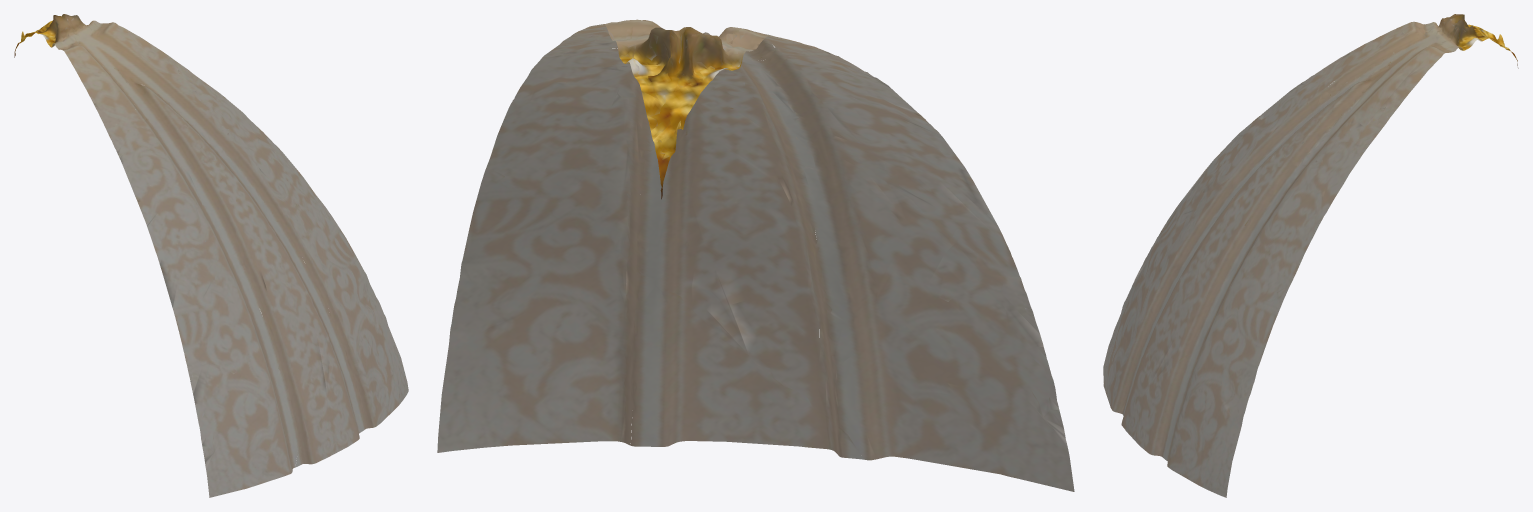
The model's file is dome2_topdome.gltf.
The picture shows the model from 3 angles, left to right: view 1: azimuth 30°, elevation 25°; view 2: azimuth 150°, elevation 25°; view 3: azimuth 270°, elevation 25°; orthographic projection. The views are drawn at different scales.
Visible parts, largest first — view 1: Object_7; view 2: Object_7; view 3: Object_7.
Part boxes in pixels (<box>): Object_7: <box>14,14,408,497</box>; Object_7: <box>437,19,1074,491</box>; Object_7: <box>1103,14,1518,497</box>.
Size of the model in its own units: 6.14 by 7.95 by 8.25.
Materials: 3 (3 with a texture image).
